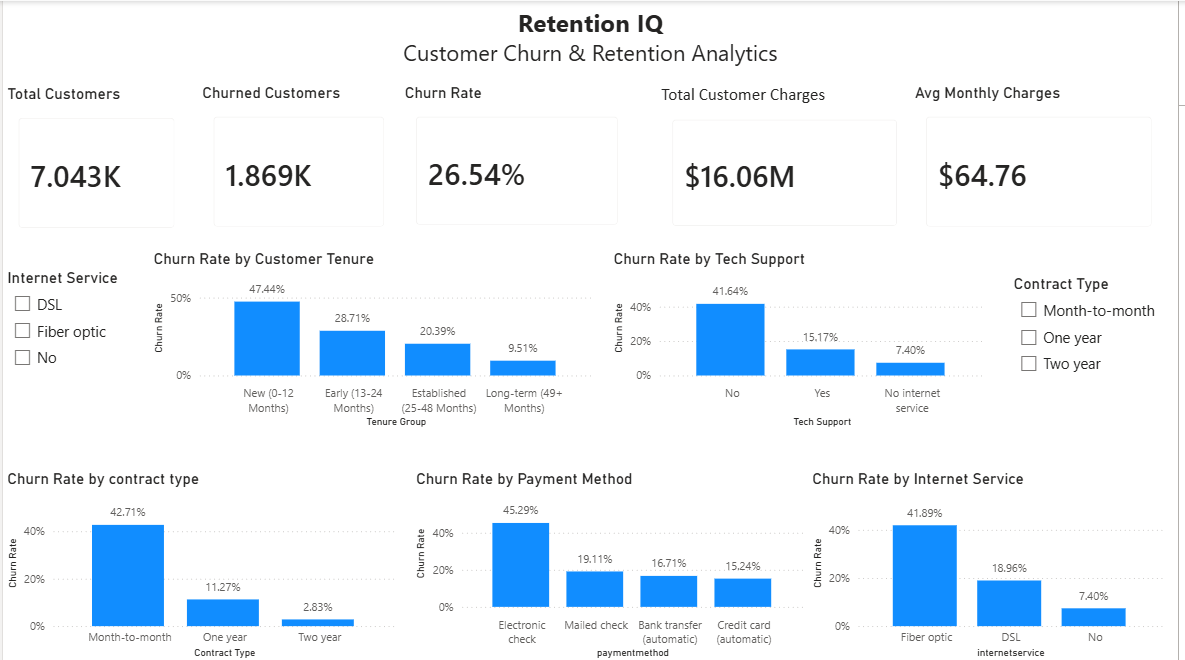

The page's visual inventory and layout, read from the dashboard file:
{"tool":"powerbi","page":{"name":"interactive dashboard","canvas":[1280,720],"ordinal":0},"visuals":[{"type":"cardVisual","title":"Total Customers","fields":{"Data":["Count(public customer.customerid)"]},"box":[0,90.8,204.9,173.3],"z":0},{"type":"cardVisual","title":"Churned Customers","fields":{"Data":["Count(public churn.customerid)"]},"box":[213.2,89.4,220,173.3],"z":1000},{"type":"cardVisual","title":"Churn Rate","fields":{"Data":["public billing.Churn Rate"]},"box":[433.2,89.4,254.4,171.9],"z":2000},{"type":"cardVisual","title":"Total Customer Charges","fields":{"Data":["public billing.Total Revenue"]},"box":[712.3,89.4,279.2,173.3],"z":3000},{"type":"cardVisual","title":"Avg Monthly Charges","fields":{"Data":["public billing.Average Monthly Charges"]},"box":[988.7,89.4,280.5,173.3],"z":4000},{"type":"clusteredColumnChart","title":"Churn Rate by Customer Tenure","fields":{"Category":["public subscription.Tenure Group"],"Y":["public billing.Churn Rate"]},"box":[159.5,270.9,488.2,198],"z":5000},{"type":"clusteredColumnChart","title":"Churn Rate by contract type","fields":{"Category":["public subscription.contract"],"Y":["public billing.Churn Rate"]},"box":[0,510.2,433.2,210.4],"z":6000},{"type":"clusteredColumnChart","title":"Churn Rate by Internet Service","fields":{"Category":["public services.internetservice"],"Y":["public billing.Churn Rate"]},"box":[877.4,510.2,391.9,210.4],"z":7000},{"type":"clusteredColumnChart","title":"Churn Rate by Payment Method","fields":{"Category":["public billing.paymentmethod"],"Y":["public billing.Churn Rate"]},"box":[445.6,510.2,431.8,210.4],"z":8000},{"type":"clusteredColumnChart","title":"Churn Rate by Tech Support","fields":{"Category":["public services.techsupport"],"Y":["public billing.Churn Rate"]},"box":[660.1,270.9,413.9,198],"z":9000},{"type":"textbox","box":[0,0,1280.3,89.6],"z":10000},{"type":"slicer","title":"Contract Type","fields":{"Values":["public subscription.contract"]},"box":[1096,298.4,173.3,129.3],"z":10001},{"type":"slicer","title":"Internet Service","fields":{"Values":["public services.internetservice"]},"box":[0,291.5,130.6,136.1],"z":10002}]}

Visuals, with their boxes in screenshot pixels (x1, y1, x2, y2), scaled from the page's 1280x720 canvas onto the 1185x660 screenshot:
"Total Customers" cardVisual: (x1=0, y1=83, x2=190, y2=242)
"Churned Customers" cardVisual: (x1=197, y1=82, x2=401, y2=241)
"Churn Rate" cardVisual: (x1=401, y1=82, x2=637, y2=240)
"Total Customer Charges" cardVisual: (x1=659, y1=82, x2=918, y2=241)
"Avg Monthly Charges" cardVisual: (x1=915, y1=82, x2=1175, y2=241)
"Churn Rate by Customer Tenure" clusteredColumnChart: (x1=148, y1=248, x2=600, y2=430)
"Churn Rate by contract type" clusteredColumnChart: (x1=0, y1=468, x2=401, y2=659)
"Churn Rate by Internet Service" clusteredColumnChart: (x1=812, y1=468, x2=1175, y2=659)
"Churn Rate by Payment Method" clusteredColumnChart: (x1=413, y1=468, x2=812, y2=659)
"Churn Rate by Tech Support" clusteredColumnChart: (x1=611, y1=248, x2=994, y2=430)
textbox: (x1=0, y1=0, x2=1184, y2=82)
"Contract Type" slicer: (x1=1015, y1=274, x2=1175, y2=392)
"Internet Service" slicer: (x1=0, y1=267, x2=121, y2=392)
